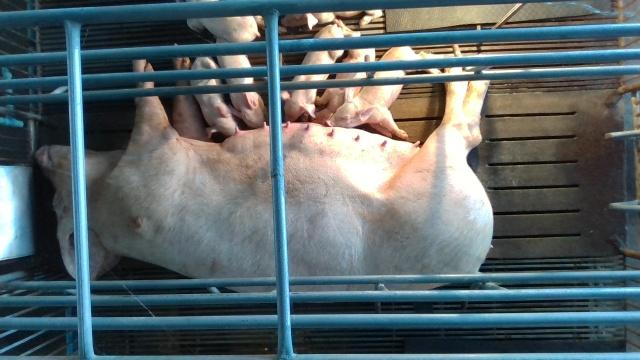piglet: (326, 46, 445, 139), (282, 23, 348, 123), (312, 48, 376, 122), (215, 39, 268, 128), (190, 55, 241, 140), (187, 0, 265, 41), (280, 9, 384, 29)
sow-sleep-lactate: (34, 58, 494, 291)
